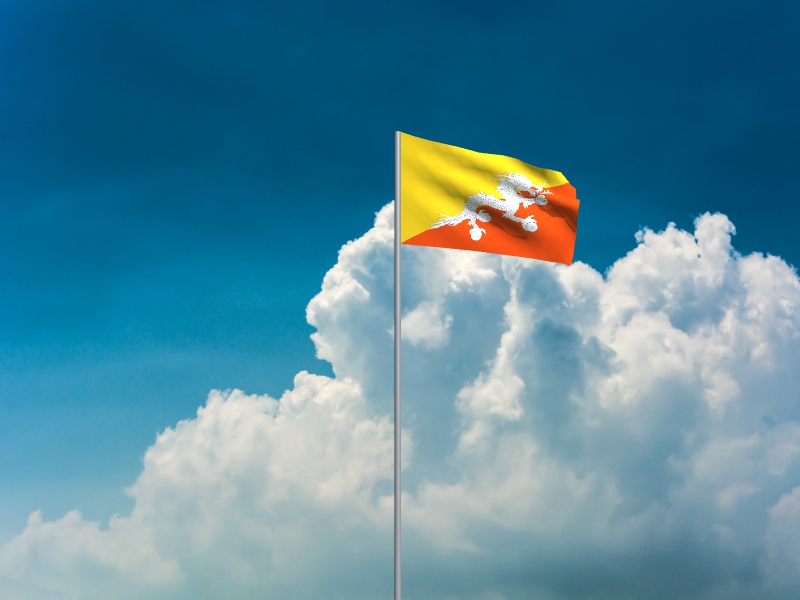bt: (402, 133, 582, 267)
